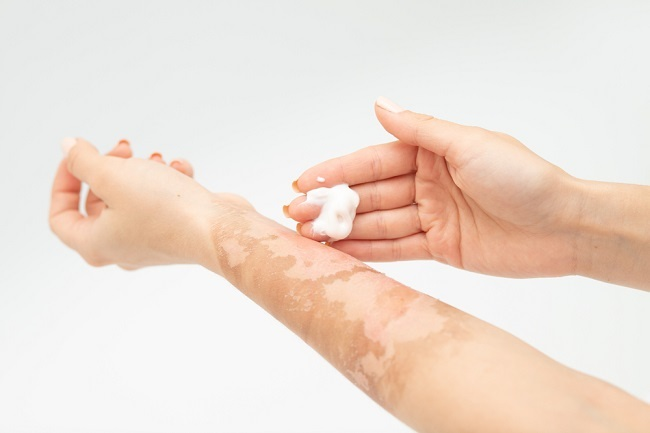Luka Bakar: (234, 230, 377, 324), (220, 219, 298, 286), (296, 254, 372, 322)
